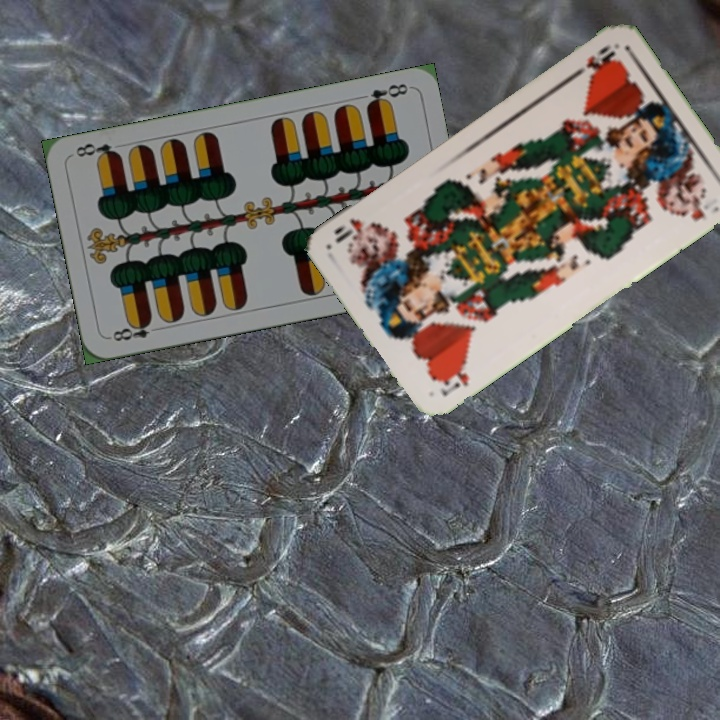E8: (105, 316, 164, 344), (362, 79, 411, 111)
HO: (567, 41, 618, 82), (434, 358, 472, 399)
